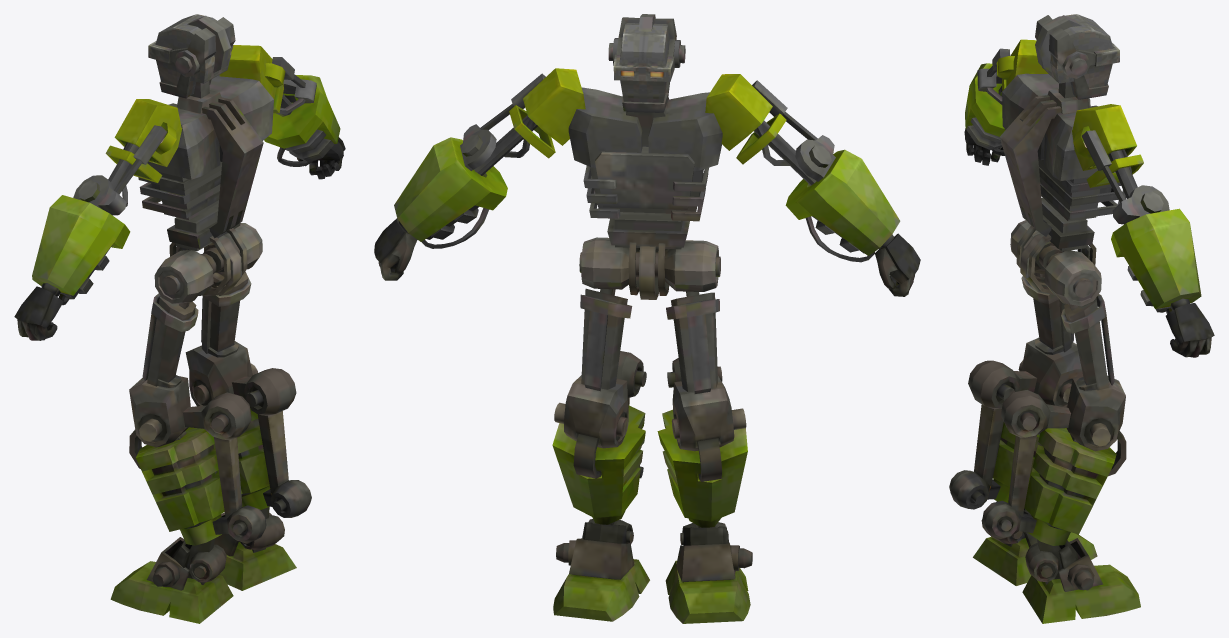
File: body_d13.fbx
3 views of the same model, side by side, from view 1: azimuth 30°, elevation 25°; view 2: azimuth 150°, elevation 25°; view 3: azimuth 270°, elevation 25° (orthographic). The views are drawn at different scales.
Parts seen in each view (by area): view 1: body_d13; view 2: body_d13; view 3: body_d13.
Part boxes in pixels (x1,y1,x2,y2): body_d13: [14, 14, 345, 623]; body_d13: [374, 14, 920, 623]; body_d13: [949, 14, 1214, 623].
Size of the model in its own units: 125 by 159 by 67.54.
